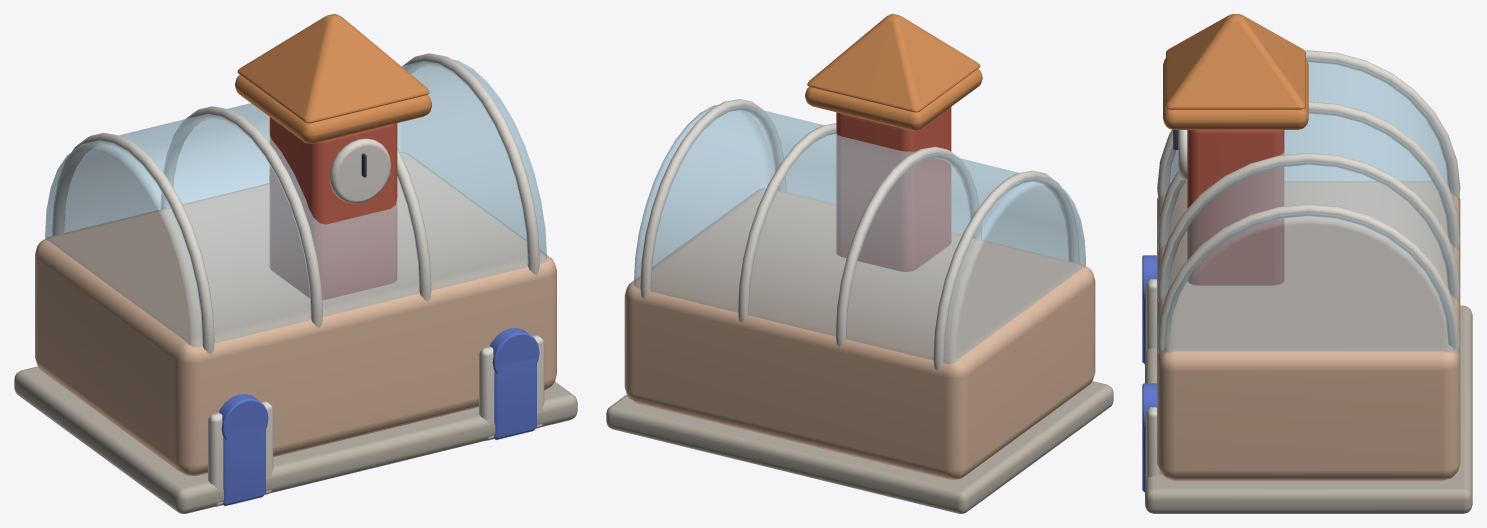
3 renders of one model, left to right at view 1: azimuth 30°, elevation 25°; view 2: azimuth 150°, elevation 25°; view 3: azimuth 270°, elevation 25°, orthographic. The views are drawn at different scales.
Visible parts, largest first — view 1: Cube; view 2: Cube; view 3: Cube.
Boxes of the visible parts, <box> form: Cube: <box>14,14,577,513</box>; Cube: <box>606,14,1113,513</box>; Cube: <box>1142,14,1472,513</box>.
Size of the model in its own units: 0.74 by 0.7405 by 0.544.
